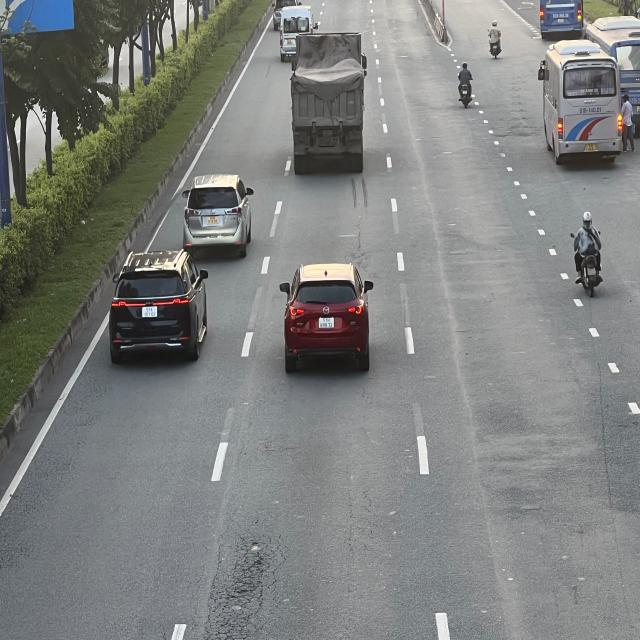car: (108, 250, 209, 361), (282, 261, 374, 369), (182, 175, 254, 260)
coach: (540, 40, 623, 163)
container: (292, 28, 370, 172)
van: (280, 6, 318, 58)
